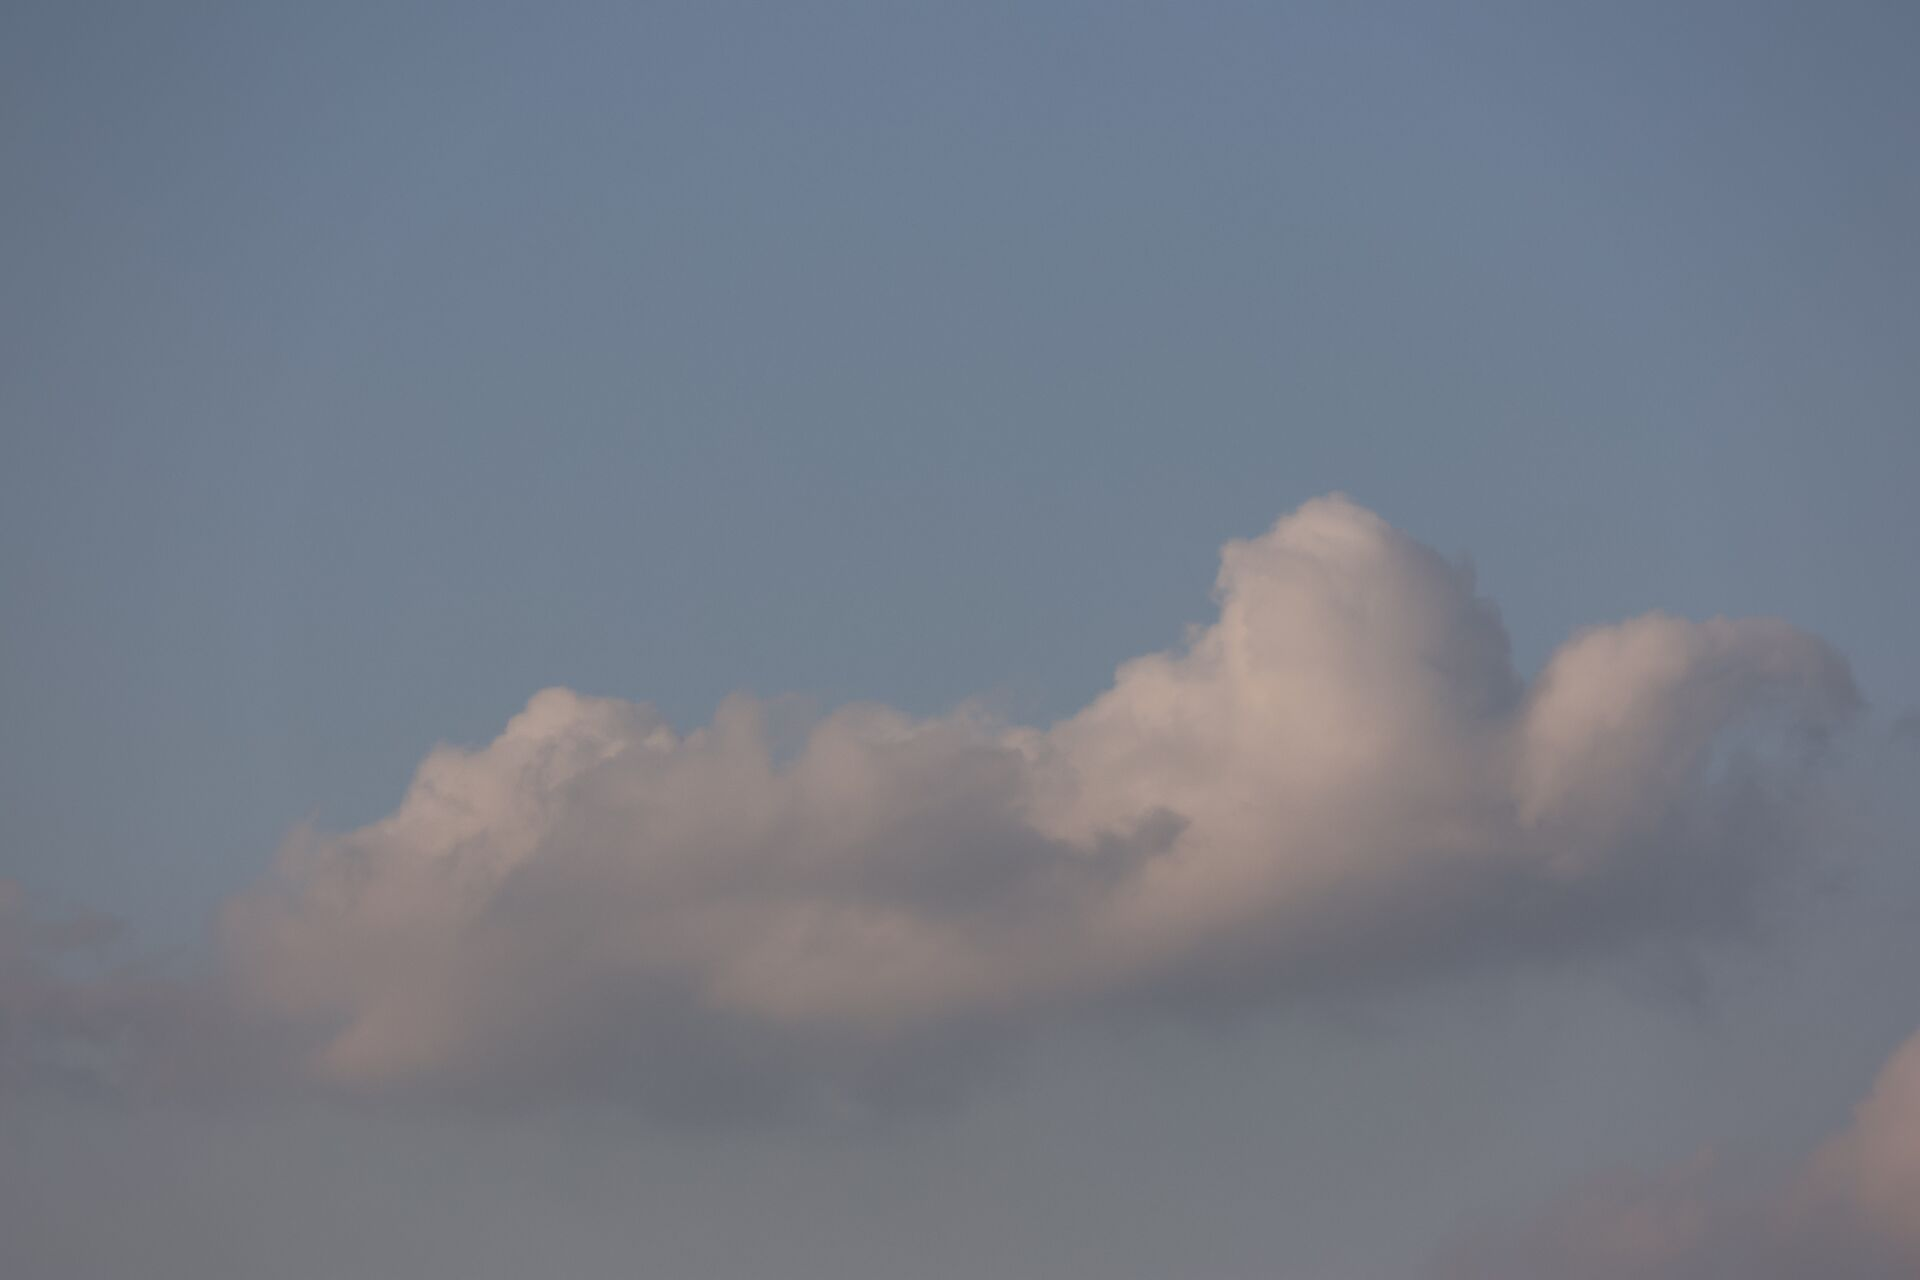Cumulus: (179, 424, 1857, 1101)
